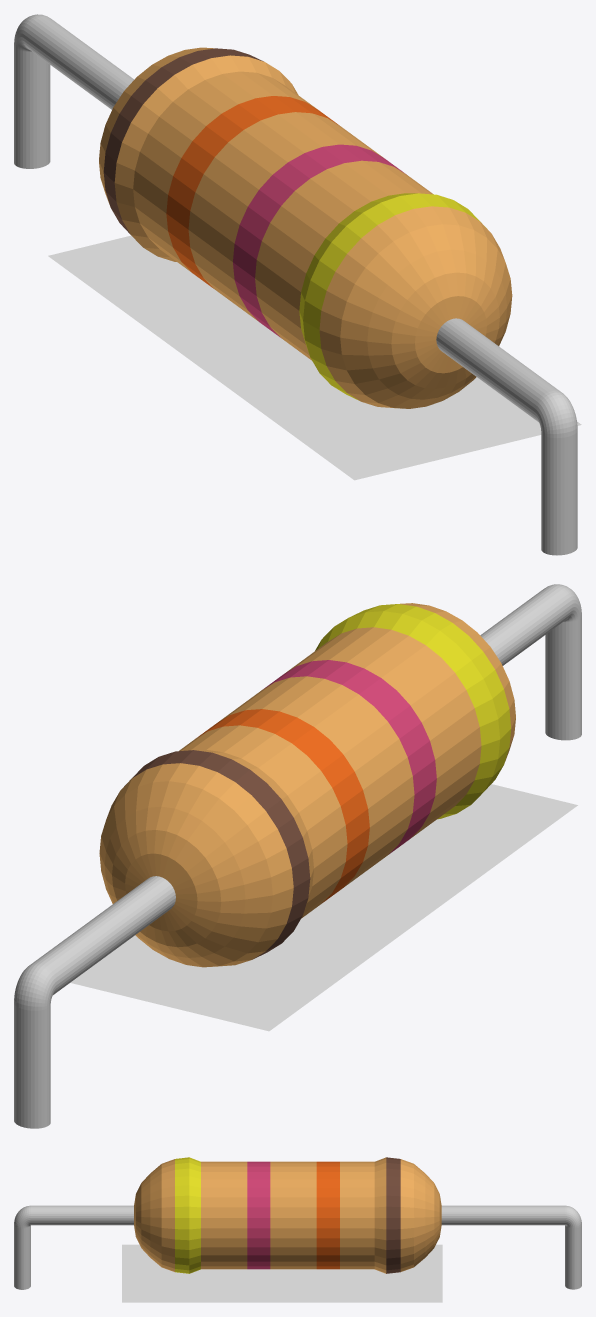
The picture shows the model from 3 angles, top to bottom: view 1: azimuth 30°, elevation 25°; view 2: azimuth 150°, elevation 25°; view 3: azimuth 270°, elevation 25°; orthographic projection. The views are drawn at different scales.
Parts seen in each view (by area): view 1: R_25, R_25_plane; view 2: R_25, R_25_plane; view 3: R_25, R_25_plane.
Boxes of the visible parts, <box> form: R_25: <box>14,14,577,555</box>; R_25_plane: <box>48,235,581,480</box>; R_25: <box>14,584,581,1128</box>; R_25_plane: <box>70,784,577,1031</box>; R_25: <box>14,1157,581,1289</box>; R_25_plane: <box>122,1244,442,1302</box>.
Size of the model in its own units: 0.0161 by 0.0159 by 0.0664.
